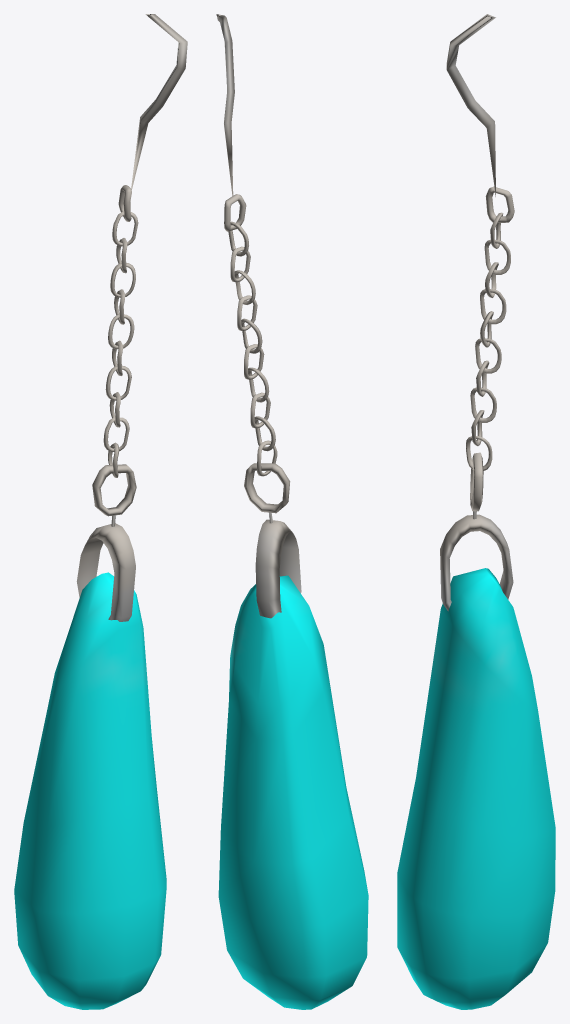
File: Earring.fbx
3 renders of one model, left to right at view 1: azimuth 30°, elevation 25°; view 2: azimuth 150°, elevation 25°; view 3: azimuth 270°, elevation 25°, orthographic. The views are drawn at different scales.
Parts seen in each view (by area): view 1: Earring; view 2: Earring; view 3: Earring.
Boxes of the visible parts, x1,y1,x2,y2 form: Earring: (14, 14, 187, 1009); Earring: (216, 14, 368, 1009); Earring: (397, 14, 555, 1009).
Bounding box in the file's own units: 0.9454 × 5.85 × 0.8259.
